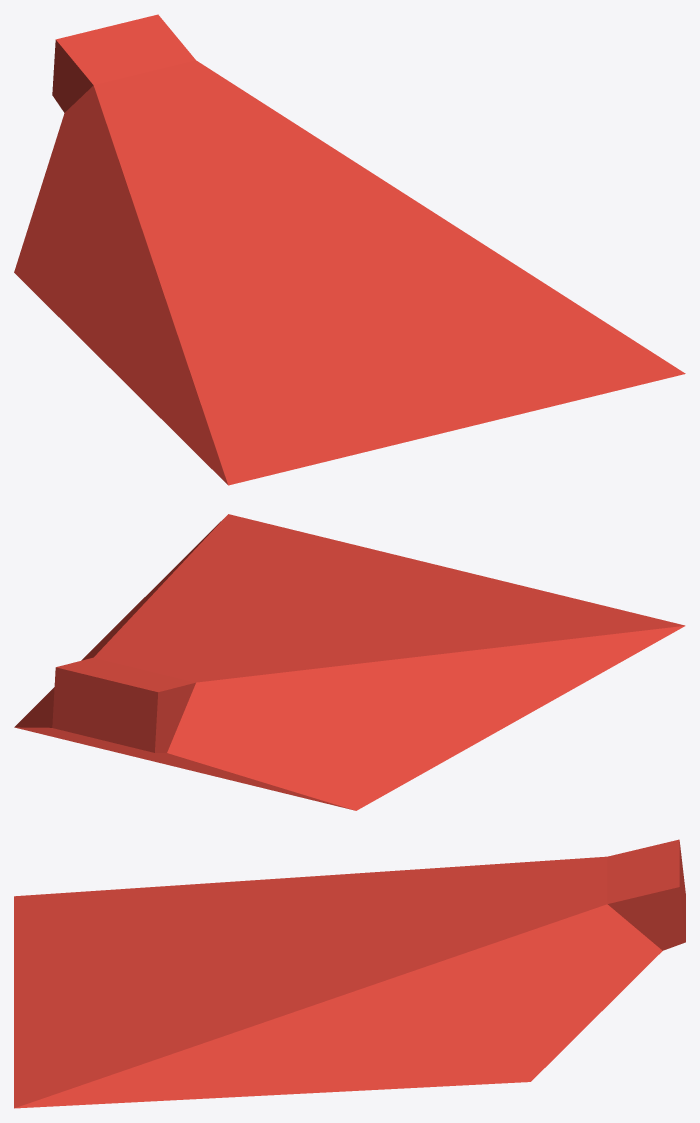
Rendered from indikator_lvl_3.fbx.
3 renders of one model, top to bottom at view 1: azimuth 30°, elevation 25°; view 2: azimuth 150°, elevation 25°; view 3: azimuth 270°, elevation 25°, orthographic. The views are drawn at different scales.
Visible parts, largest first — view 1: Cylinder.003; view 2: Cylinder.003; view 3: Cylinder.003.
Part boxes in pixels (box(x1,y1,x2,y2)): Cylinder.003: box(14, 14, 685, 485); Cylinder.003: box(14, 514, 685, 810); Cylinder.003: box(14, 839, 685, 1108).
Size of the model in its own units: 869 by 266 by 1162.
